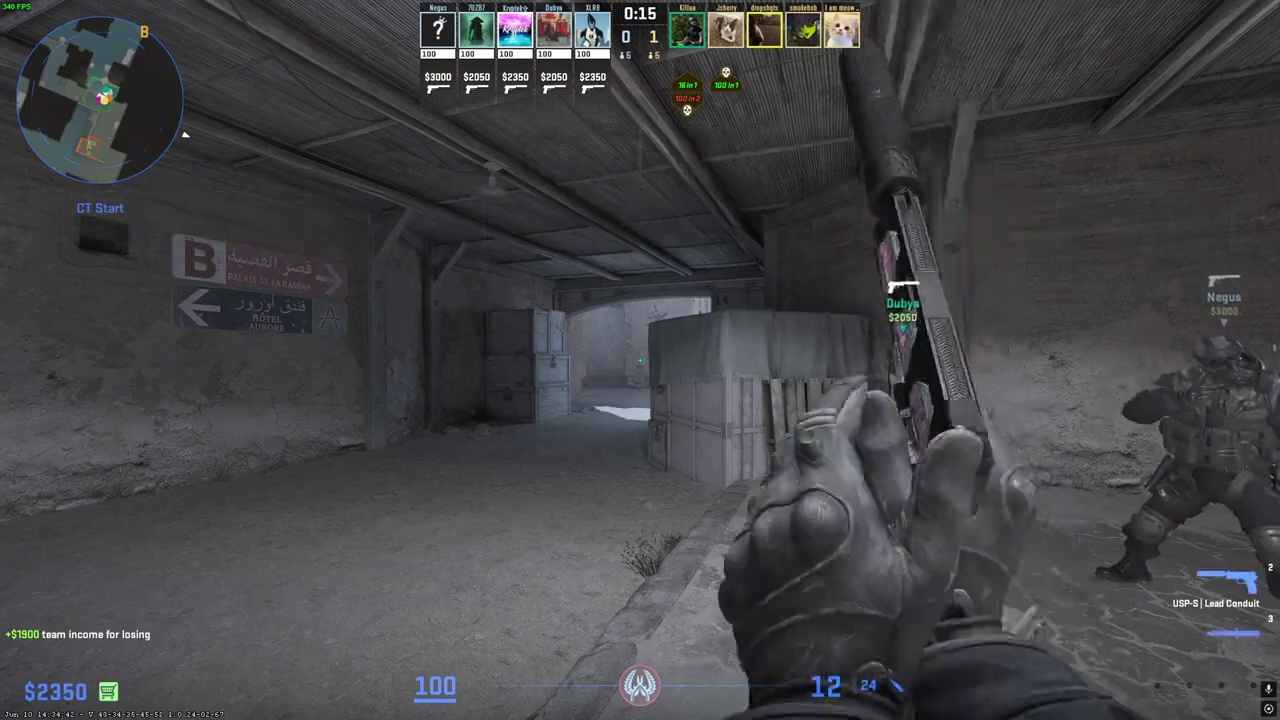CT: (1131, 334, 1280, 602)
